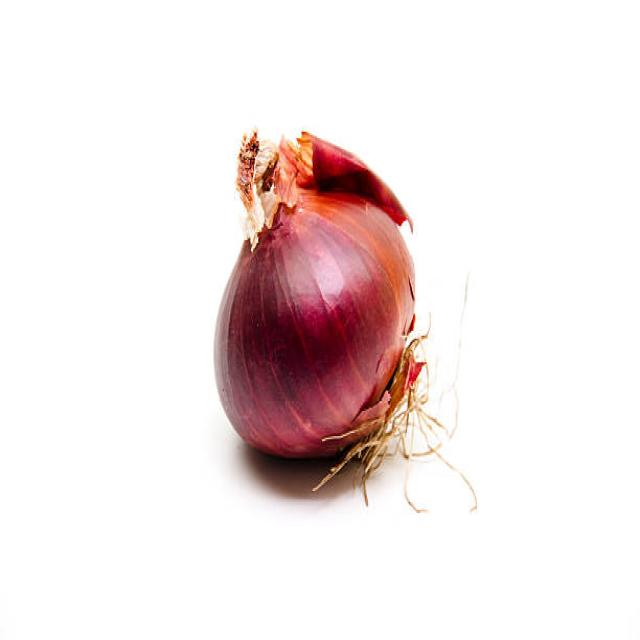onion: (215, 164, 428, 483)
